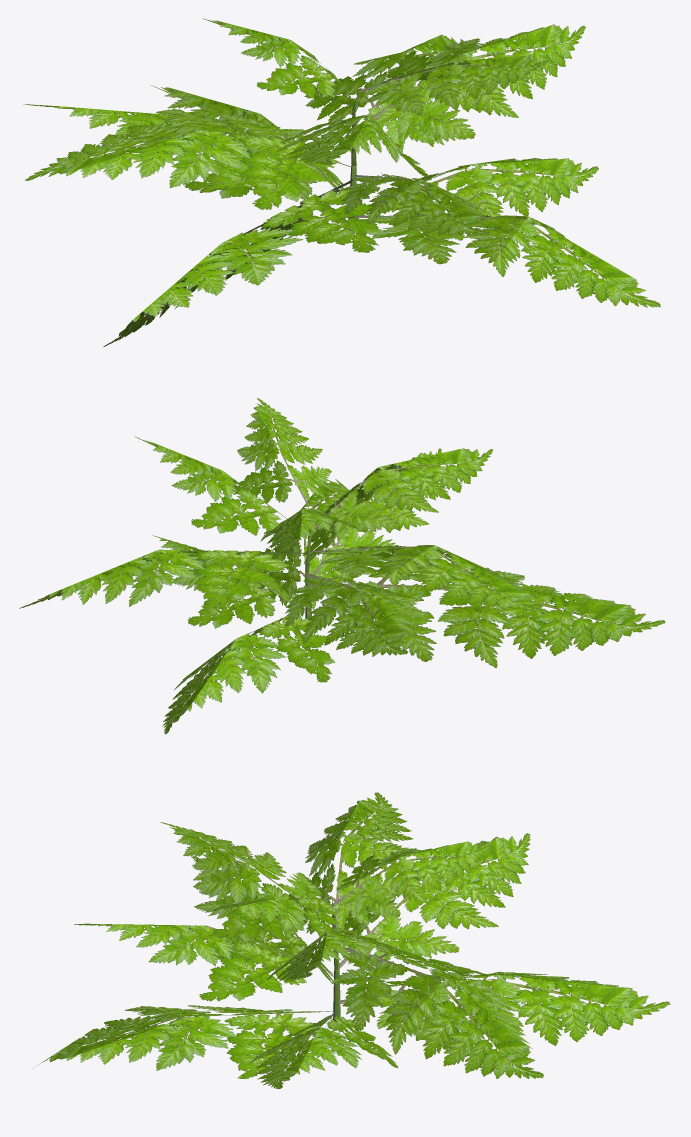
Rendered from fern.obj.
3 renders of one model, top to bottom at view 1: azimuth 30°, elevation 25°; view 2: azimuth 150°, elevation 25°; view 3: azimuth 270°, elevation 25°, orthographic. The views are drawn at different scales.
Visible parts, largest first — view 1: Plane.001_Plane; view 2: Plane.001_Plane; view 3: Plane.001_Plane.
Boxes of the visible parts, x1,y1,x2,y2 form: Plane.001_Plane: (23,18,660,346); Plane.001_Plane: (19,398,665,734); Plane.001_Plane: (34,792,670,1089).
Bounding box in the file's own units: 49.86 × 17.26 × 53.57.
